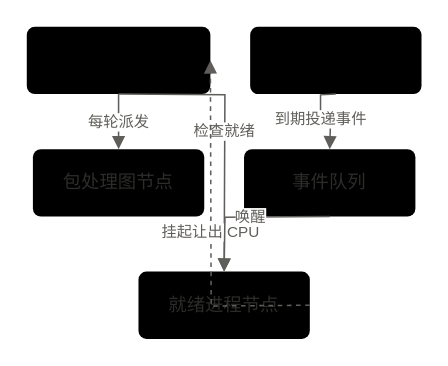
Some shapes in this 448 by 366 pixel diagram are drawn without their labels. Each missing label, with the box of its shape:
vlib_main_loop: (25, 25, 210, 94)
定时轮: (249, 25, 422, 94)
